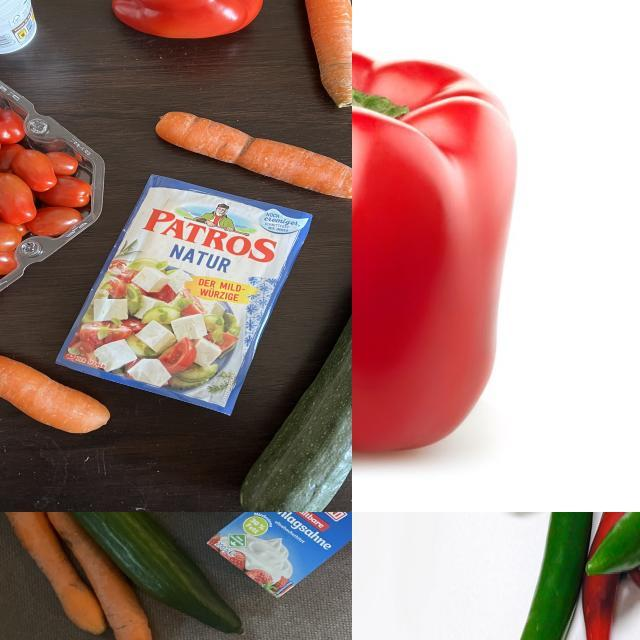bell_pepper: (353, 1, 524, 461), (106, 1, 268, 57)
carrot: (150, 107, 353, 210), (29, 513, 165, 640), (1, 513, 115, 640), (1, 333, 106, 456), (294, 1, 353, 116)
cucumber: (79, 513, 270, 640)
tomato: (1, 69, 102, 310)
zucchini: (247, 231, 353, 513)
